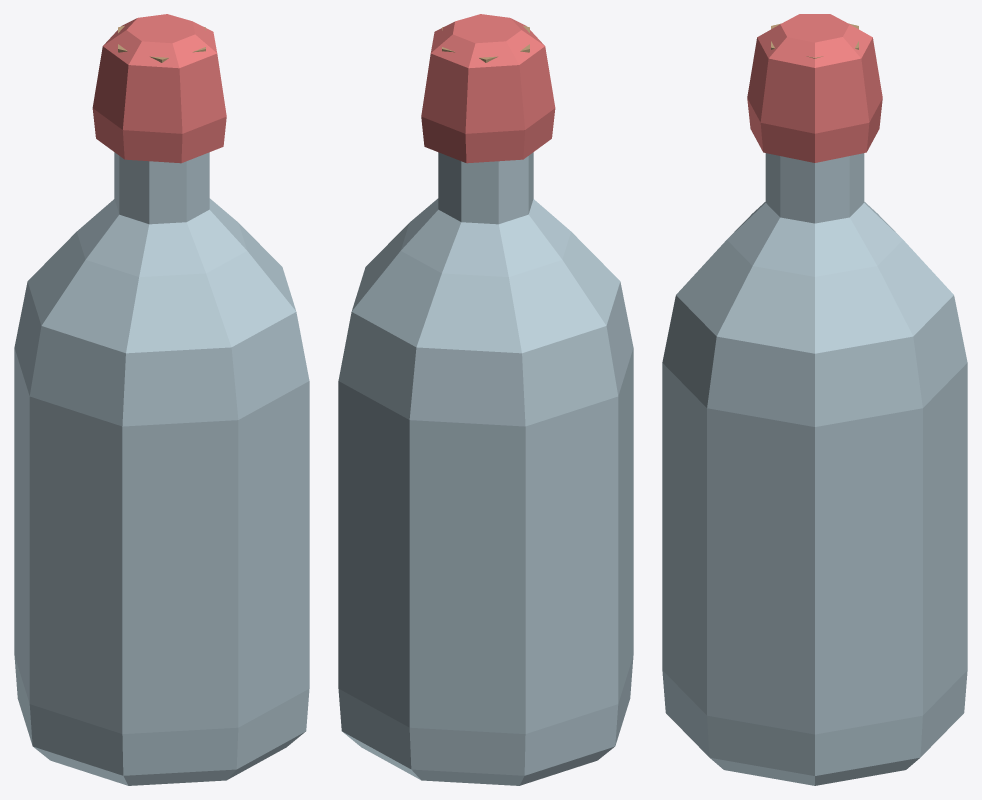
Rendered from Item_TonicBottle_AMF_T3_LOD1.glb.
The picture shows the model from 3 angles, left to right: view 1: azimuth 30°, elevation 25°; view 2: azimuth 150°, elevation 25°; view 3: azimuth 270°, elevation 25°; orthographic projection.
Visible parts, largest first — view 1: Item_TonicBottle_AMF_T3; view 2: Item_TonicBottle_AMF_T3; view 3: Item_TonicBottle_AMF_T3.
Boxes of the visible parts, left/top/right/bottom form: Item_TonicBottle_AMF_T3: left=14, top=14, right=309, bottom=785; Item_TonicBottle_AMF_T3: left=338, top=14, right=633, bottom=785; Item_TonicBottle_AMF_T3: left=662, top=14, right=967, bottom=785.
Bounding box in the file's own units: 0.09 × 0.229 × 0.09.
